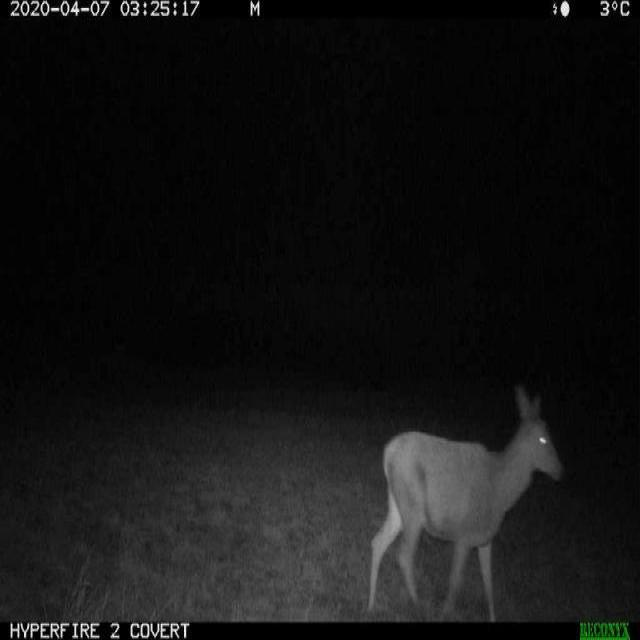deer: (362, 363, 582, 630)
